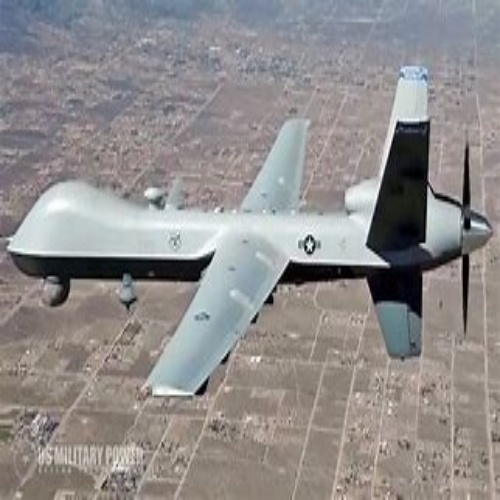uav543: (9, 64, 494, 398)
